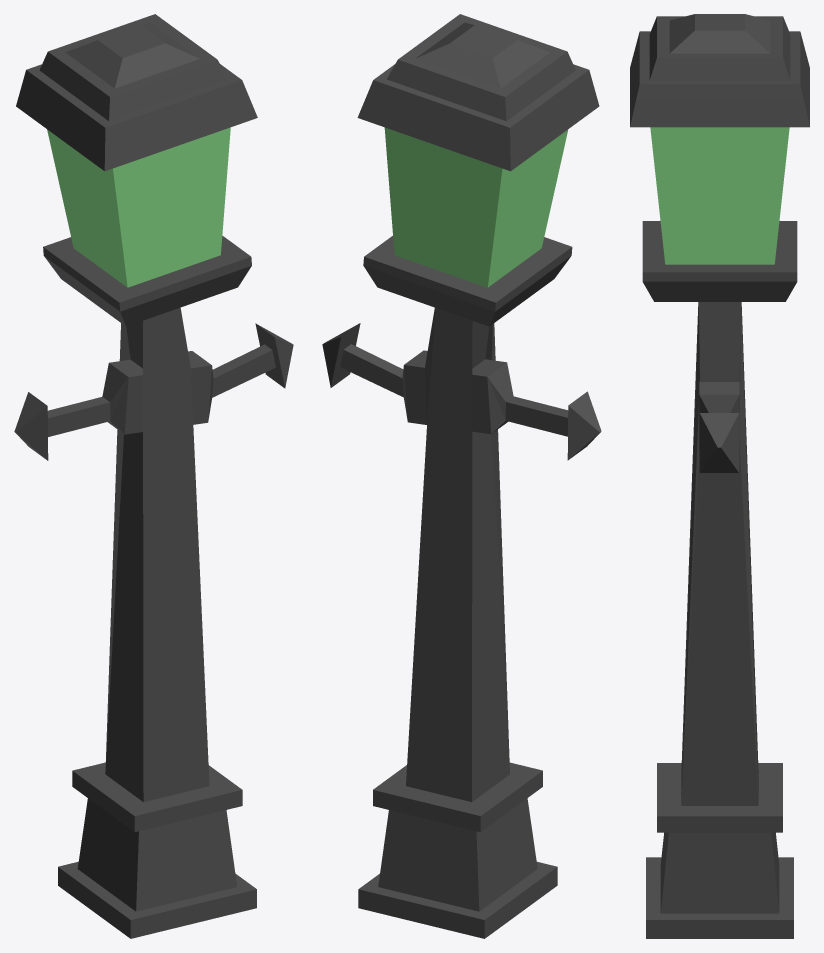
The model's file is Prop_Lamp_Post_Metal_Spiked_Spooky_01.fbx.
3 renders of one model, left to right at view 1: azimuth 30°, elevation 25°; view 2: azimuth 150°, elevation 25°; view 3: azimuth 270°, elevation 25°, orthographic.
Visible parts, largest first — view 1: Prop_Lamp_Post_Metal_Spiked_Spooky_01; view 2: Prop_Lamp_Post_Metal_Spiked_Spooky_01; view 3: Prop_Lamp_Post_Metal_Spiked_Spooky_01.
Boxes of the visible parts, <box> form: Prop_Lamp_Post_Metal_Spiked_Spooky_01: <box>14,14,293,938</box>; Prop_Lamp_Post_Metal_Spiked_Spooky_01: <box>322,14,601,938</box>; Prop_Lamp_Post_Metal_Spiked_Spooky_01: <box>630,14,809,938</box>.
Size of the model in its own units: 31.65 by 94.11 by 17.54.
